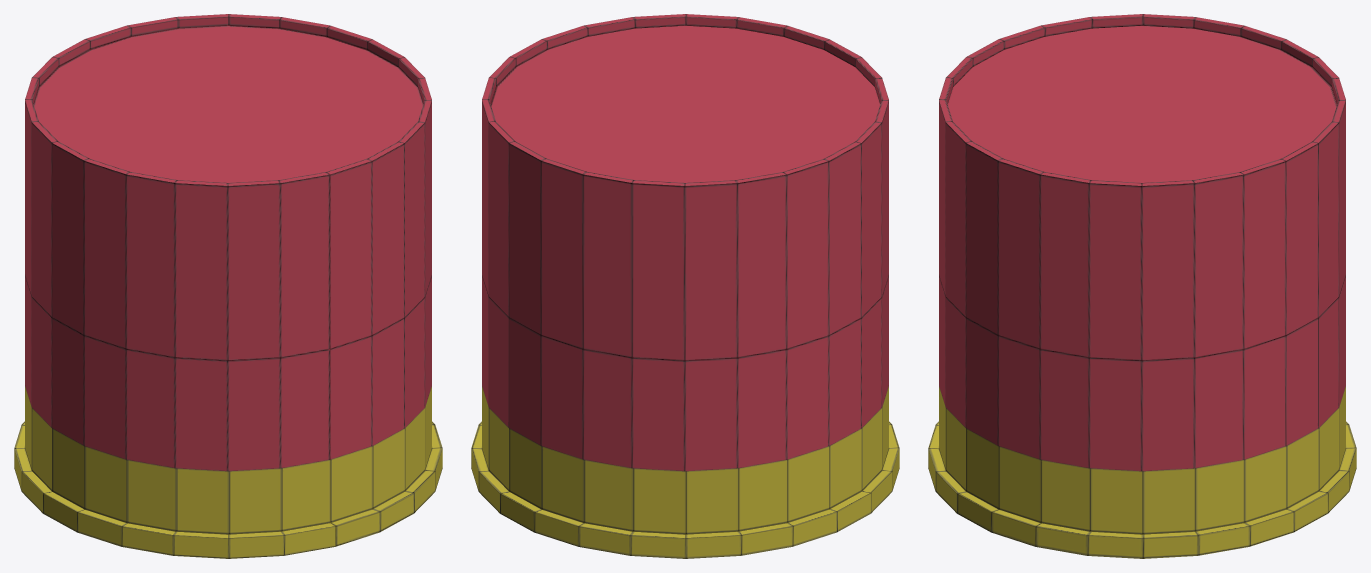
Rendered from ShotgunBullet.fbx.
The picture shows the model from 3 angles, left to right: view 1: azimuth 30°, elevation 25°; view 2: azimuth 150°, elevation 25°; view 3: azimuth 270°, elevation 25°; orthographic projection.
Parts seen in each view (by area): view 1: Cylinder; view 2: Cylinder; view 3: Cylinder.
Boxes of the visible parts, x1,y1,x2,y2 form: Cylinder: (14, 14, 442, 558); Cylinder: (471, 14, 899, 558); Cylinder: (928, 14, 1356, 558).
Bounding box in the file's own units: 2.1 × 2 × 2.1.
